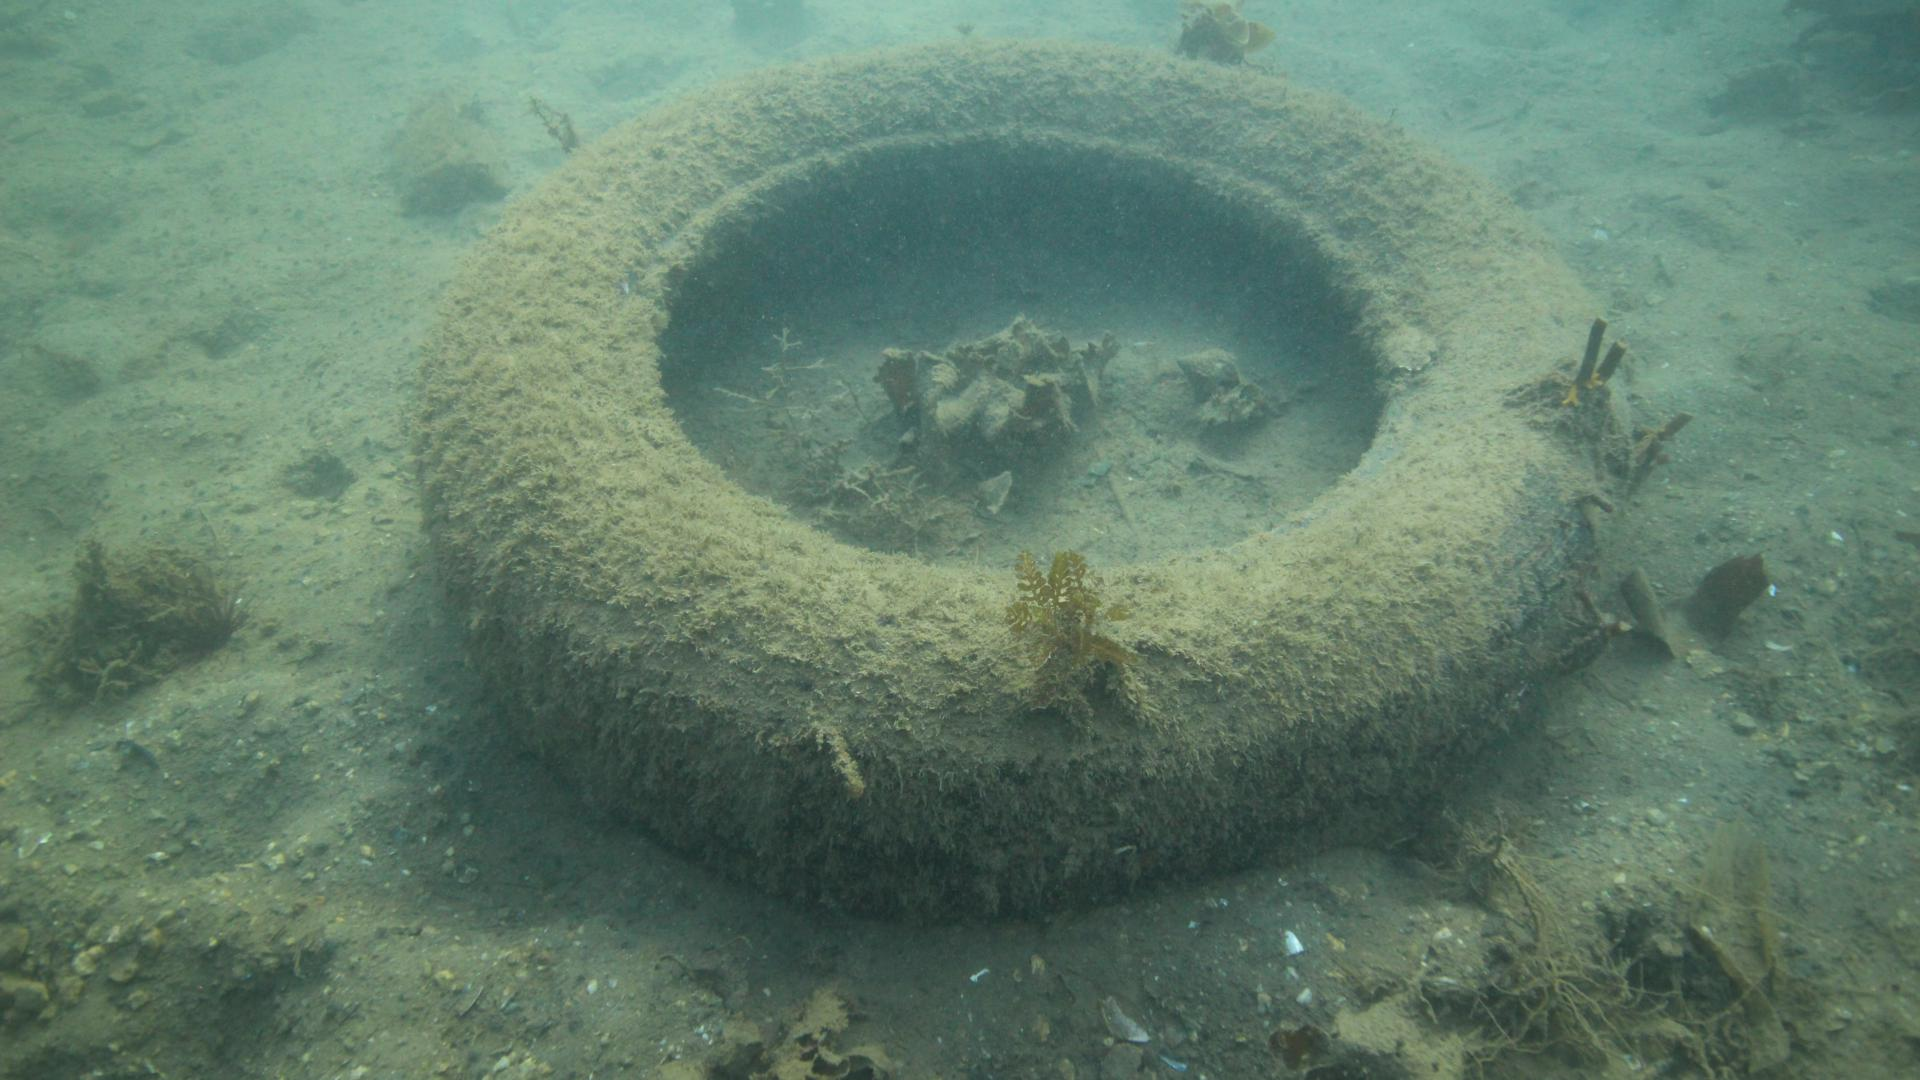tire: (411, 37, 1630, 924)
